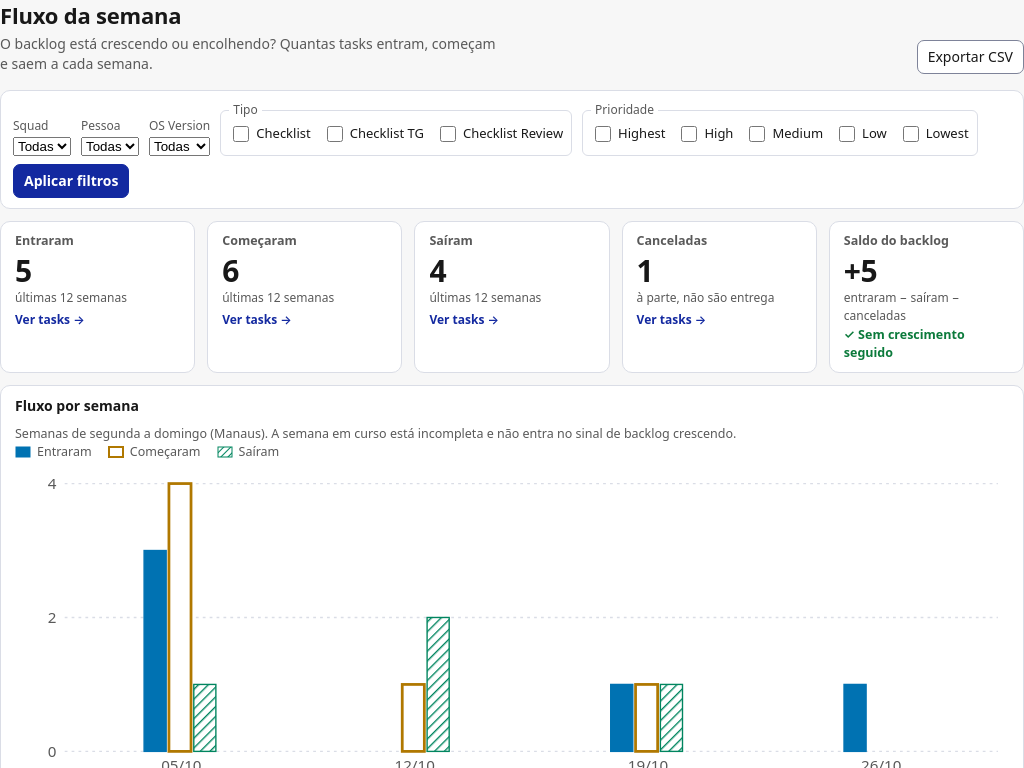
Scenario: tela Fluxo da semana › totalDoCartaoAbreAsMesmasTasks
Click the button named "Entraram" at (98, 291), box [15,254,180,328]
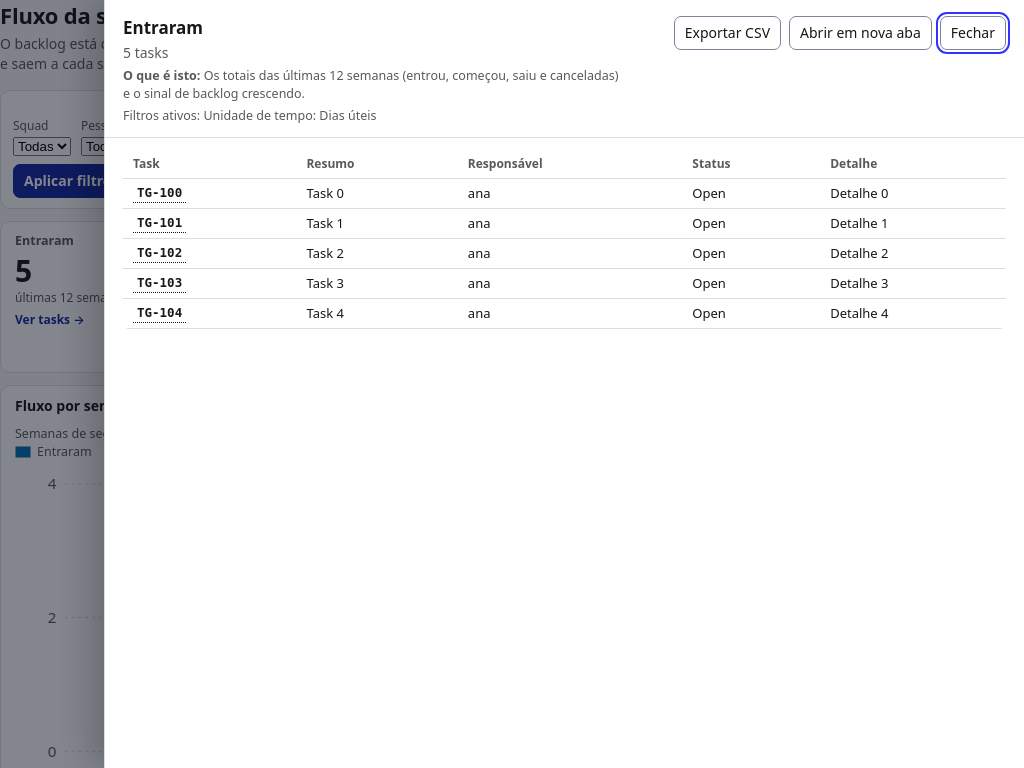
Check: the dialog is shown
